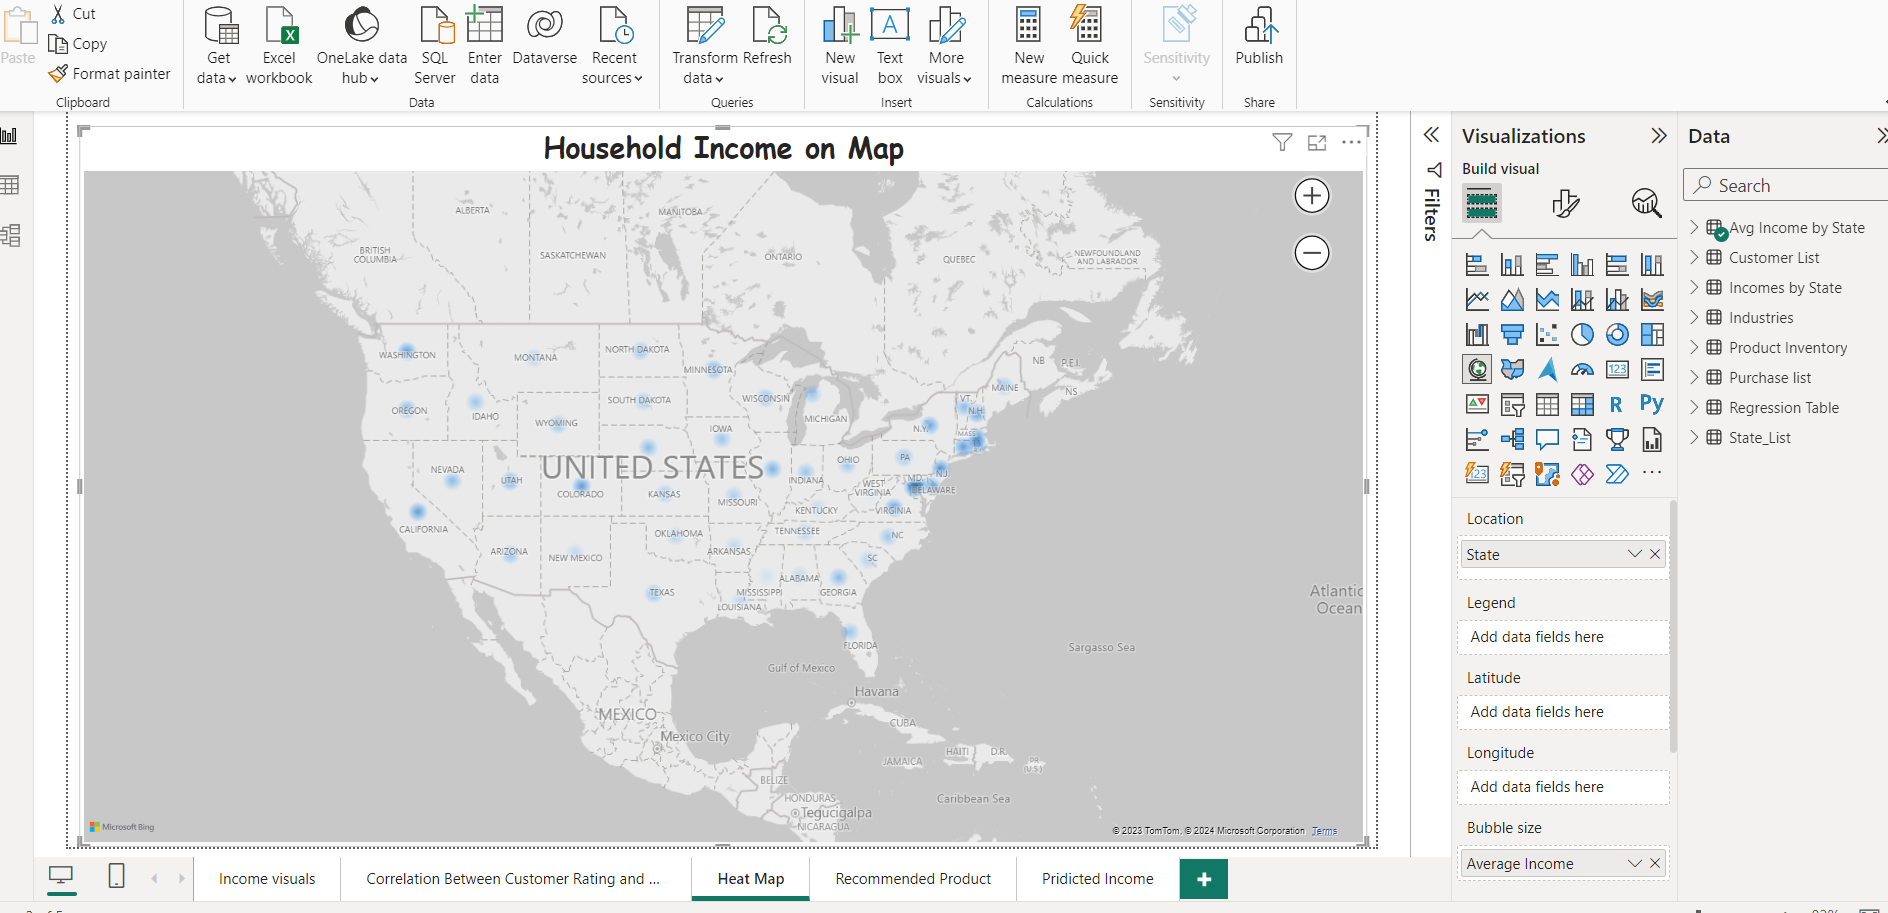

This screenshot's page, from the dashboard's own definition file:
{"tool":"powerbi","page":{"name":"Heat Map","canvas":[1280,720],"ordinal":2},"visuals":[{"type":"map","title":"Household Income on Map","fields":{"Category":["Avg Income by State.State"],"Size":["Sum(Avg Income by State.Average Income)"]},"box":[11,14.7,1260.3,705.3],"z":0}]}

Visuals, with their boxes on the page's 1280x720 design canvas (x1, y1, x2, y2). These are canvas units, not pixel positions in the 1888x913 screenshot, which may show the page scaled, cropped or inside an application window:
"Household Income on Map" map: 11,15,1271,720
